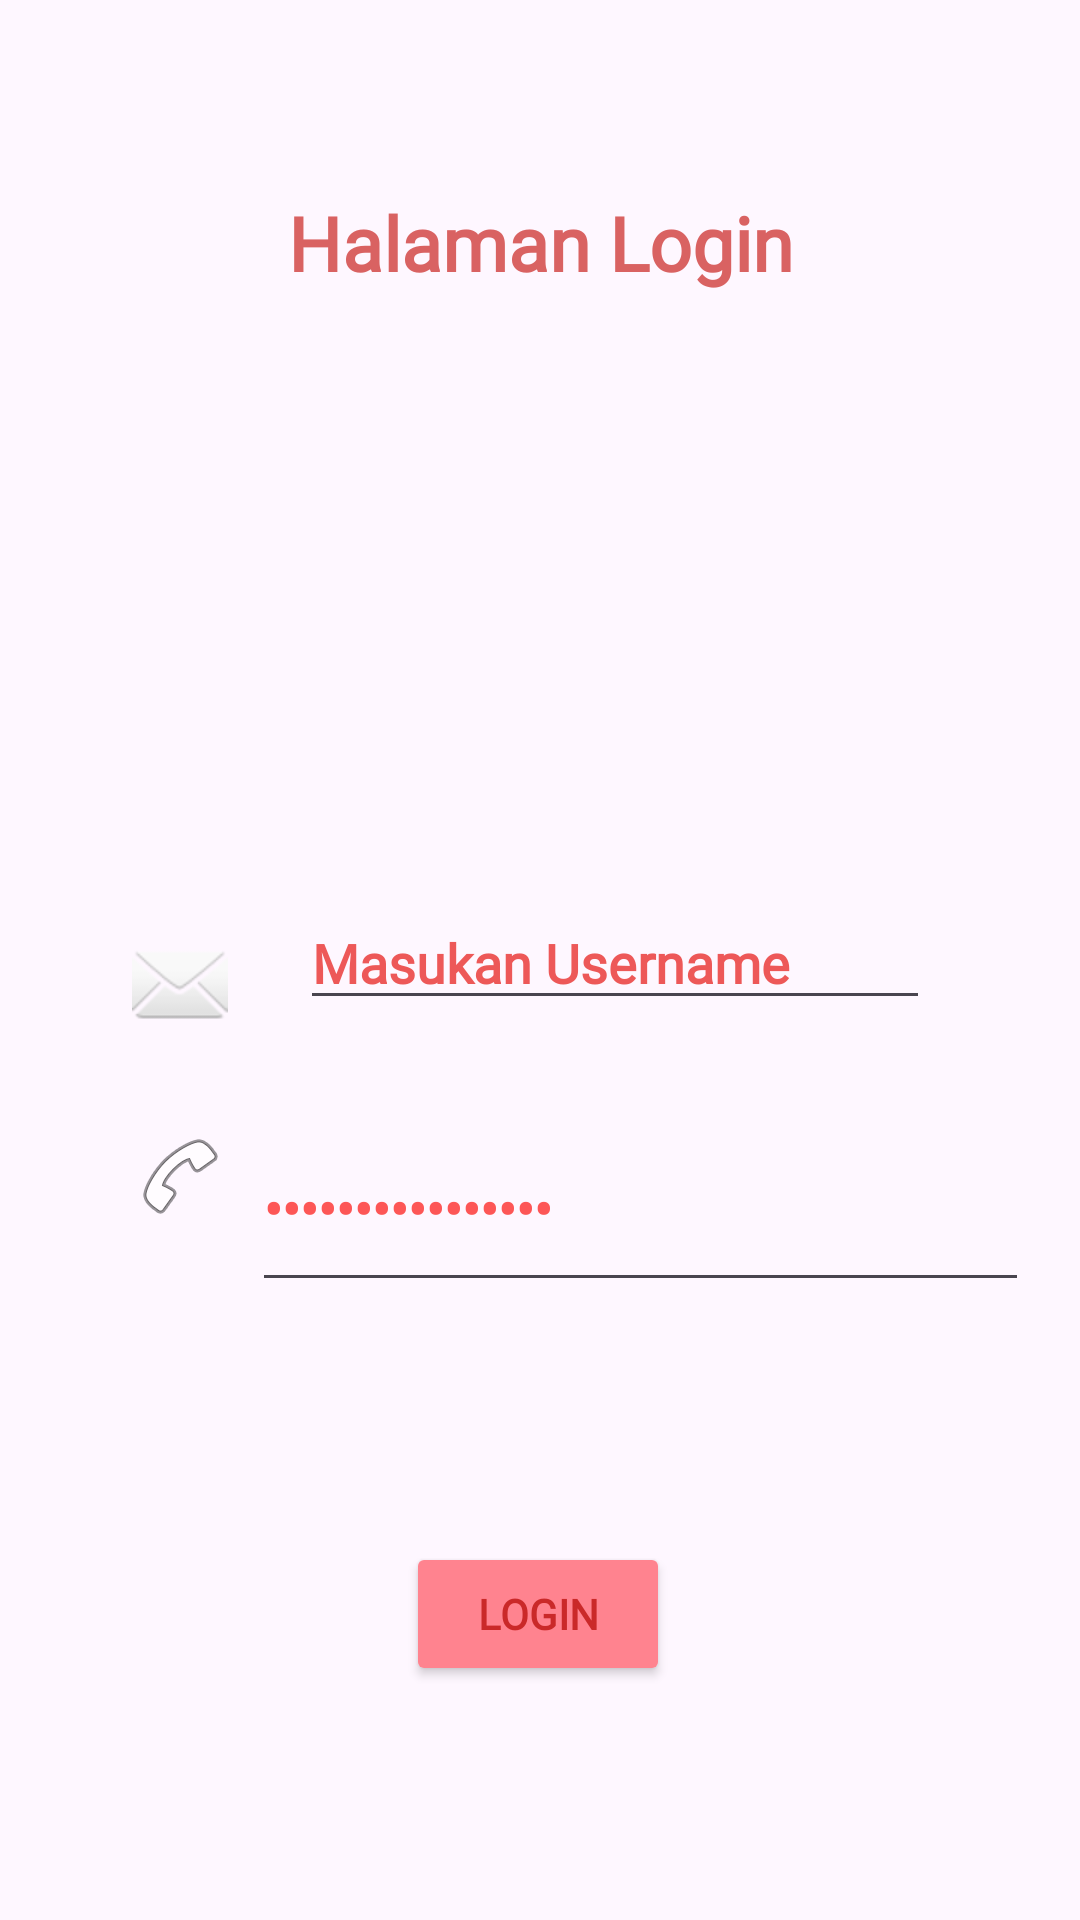

Icons on this 1080 × 1920 Android screen, each with its box as (x1, y1, x2, y2):
call: (143, 1139, 218, 1214)
email: (132, 953, 228, 1019)
